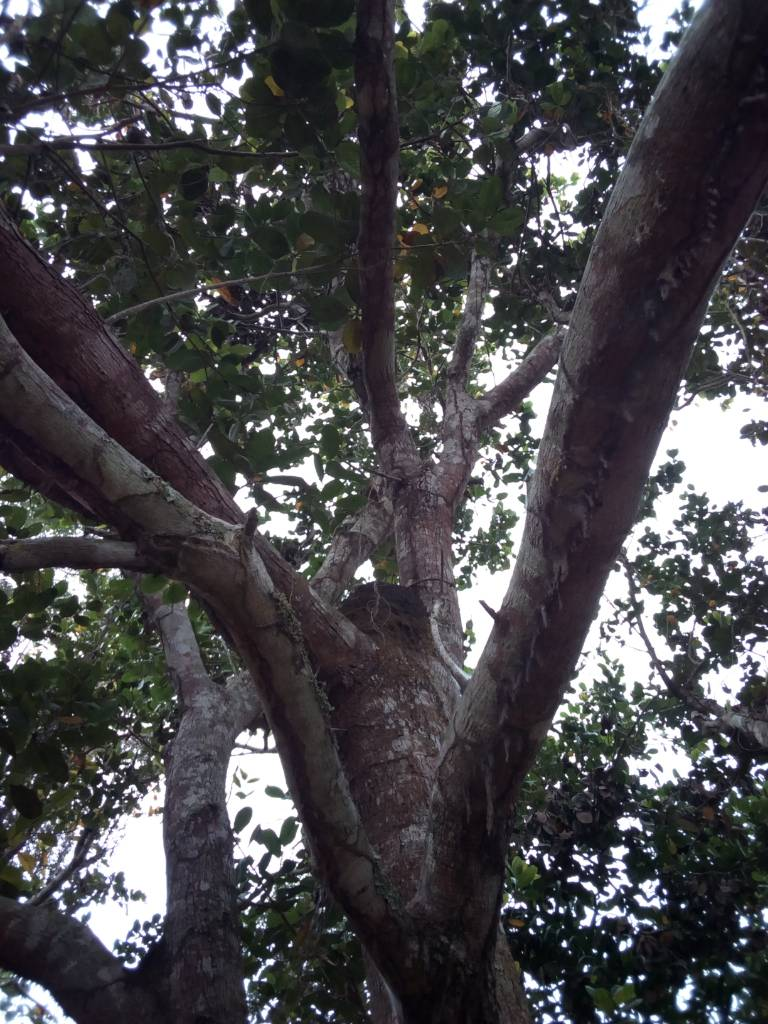Termites: (466, 303, 647, 875)
